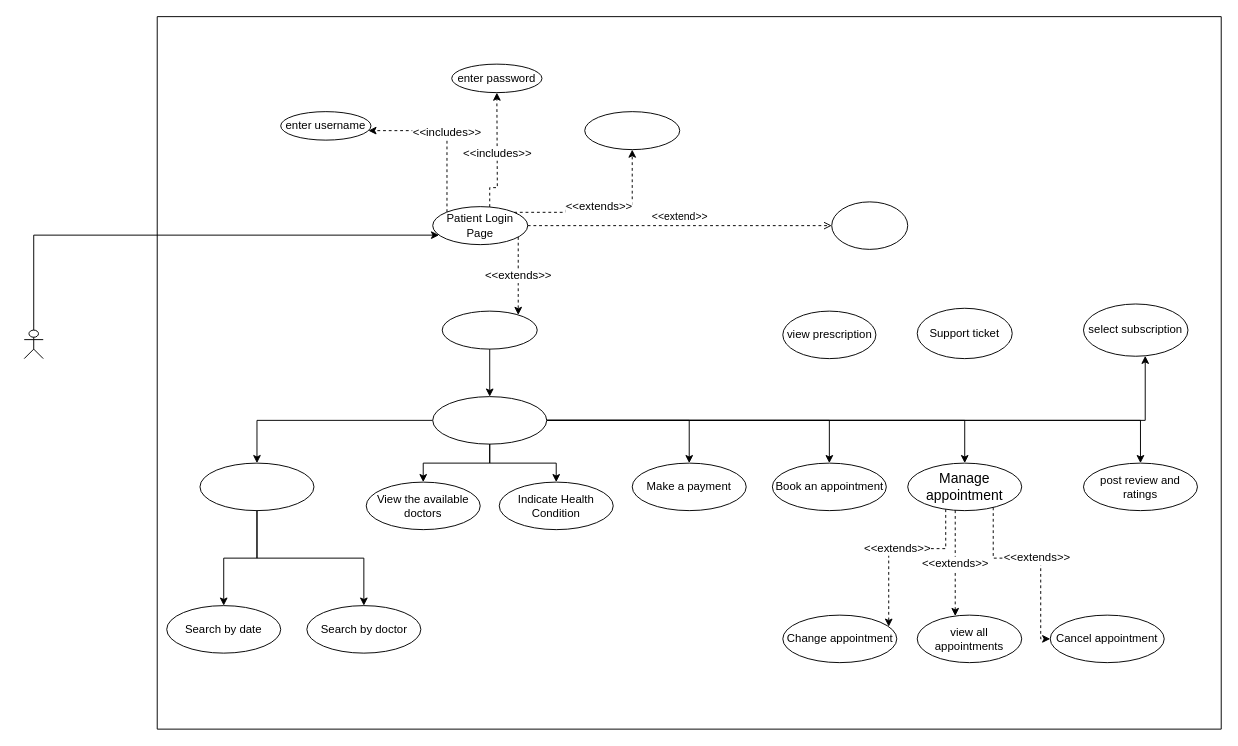
Some shapes in this 1238 by 746 pixel diagram are drawn without their labels. The shapes that lost their labels are listed below. From the top down, each one's centre as x and y in pixels, then its label:
At (632,130): "Login Fail".
At (869,225): "Registration".
At (33,344): "Patient".
At (489,329): "Login successful".
At (489,420): "Patient Home page".
At (256,486): "Search for available appointment".
